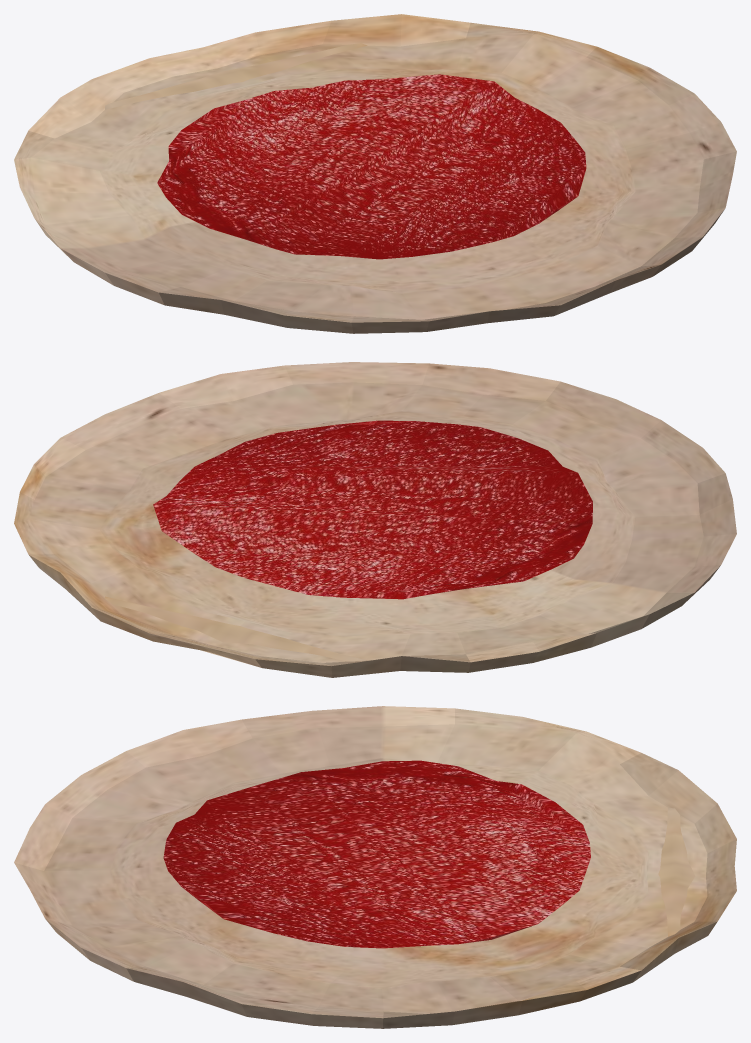
Rendered from pizzabodem_rauw_saus_fase_2.glb.
3 renders of one model, top to bottom at view 1: azimuth 30°, elevation 25°; view 2: azimuth 150°, elevation 25°; view 3: azimuth 270°, elevation 25°, orthographic.
Visible parts, largest first — view 1: Sphere, Cylinder.002; view 2: Sphere, Cylinder.002; view 3: Sphere, Cylinder.002.
Boxes of the visible parts, x1=… form: Sphere: x1=14, y1=14, x2=736, y2=333; Cylinder.002: x1=157, y1=74, x2=586, y2=259; Sphere: x1=14, y1=362, x2=736, y2=677; Cylinder.002: x1=153, y1=420, x2=592, y2=599; Sphere: x1=14, y1=706, x2=736, y2=1028; Cylinder.002: x1=163, y1=760, x2=590, y2=948.
Bounding box in the file's own units: 3.09 × 0.1196 × 3.03.
Materials: 2 (2 with a texture image).
